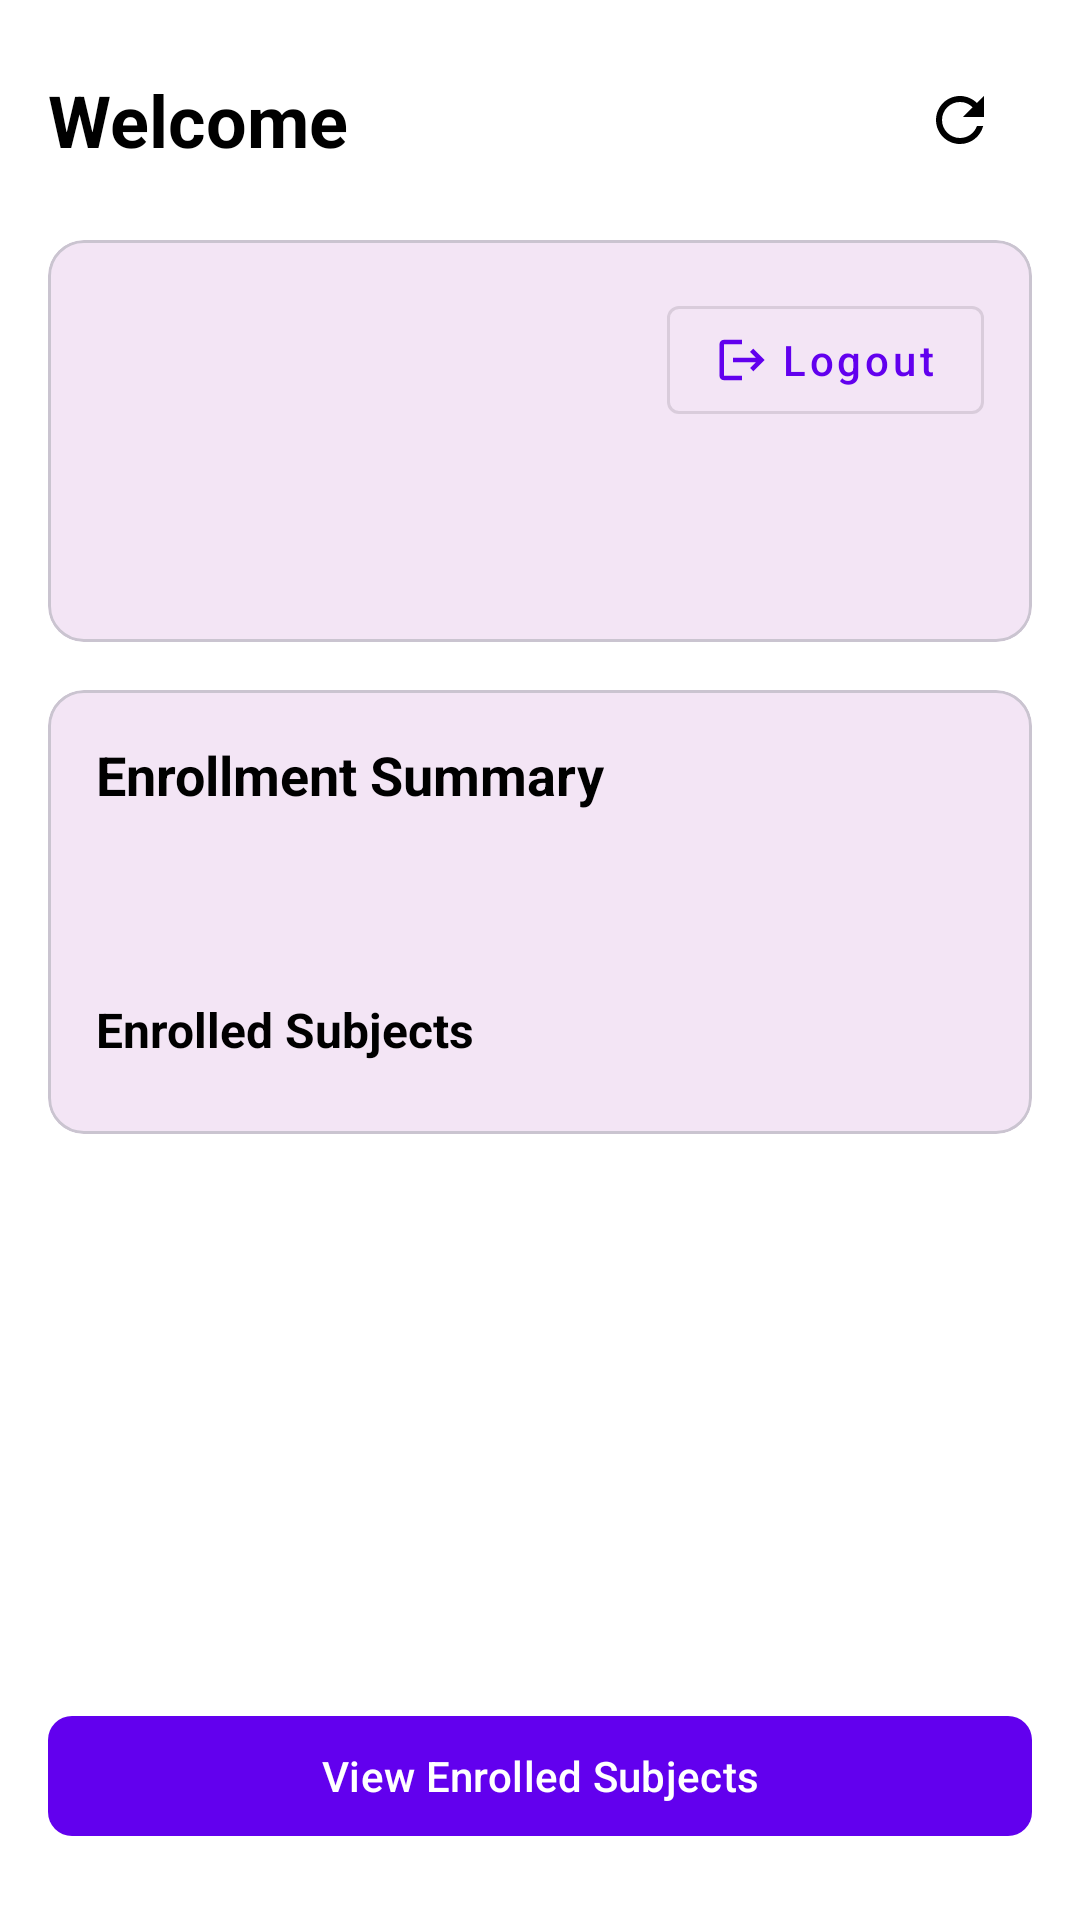

Icons on this 1080px×1920px Android screen, each with the point to tap as [x,y]:
Refresh: [960,120]
